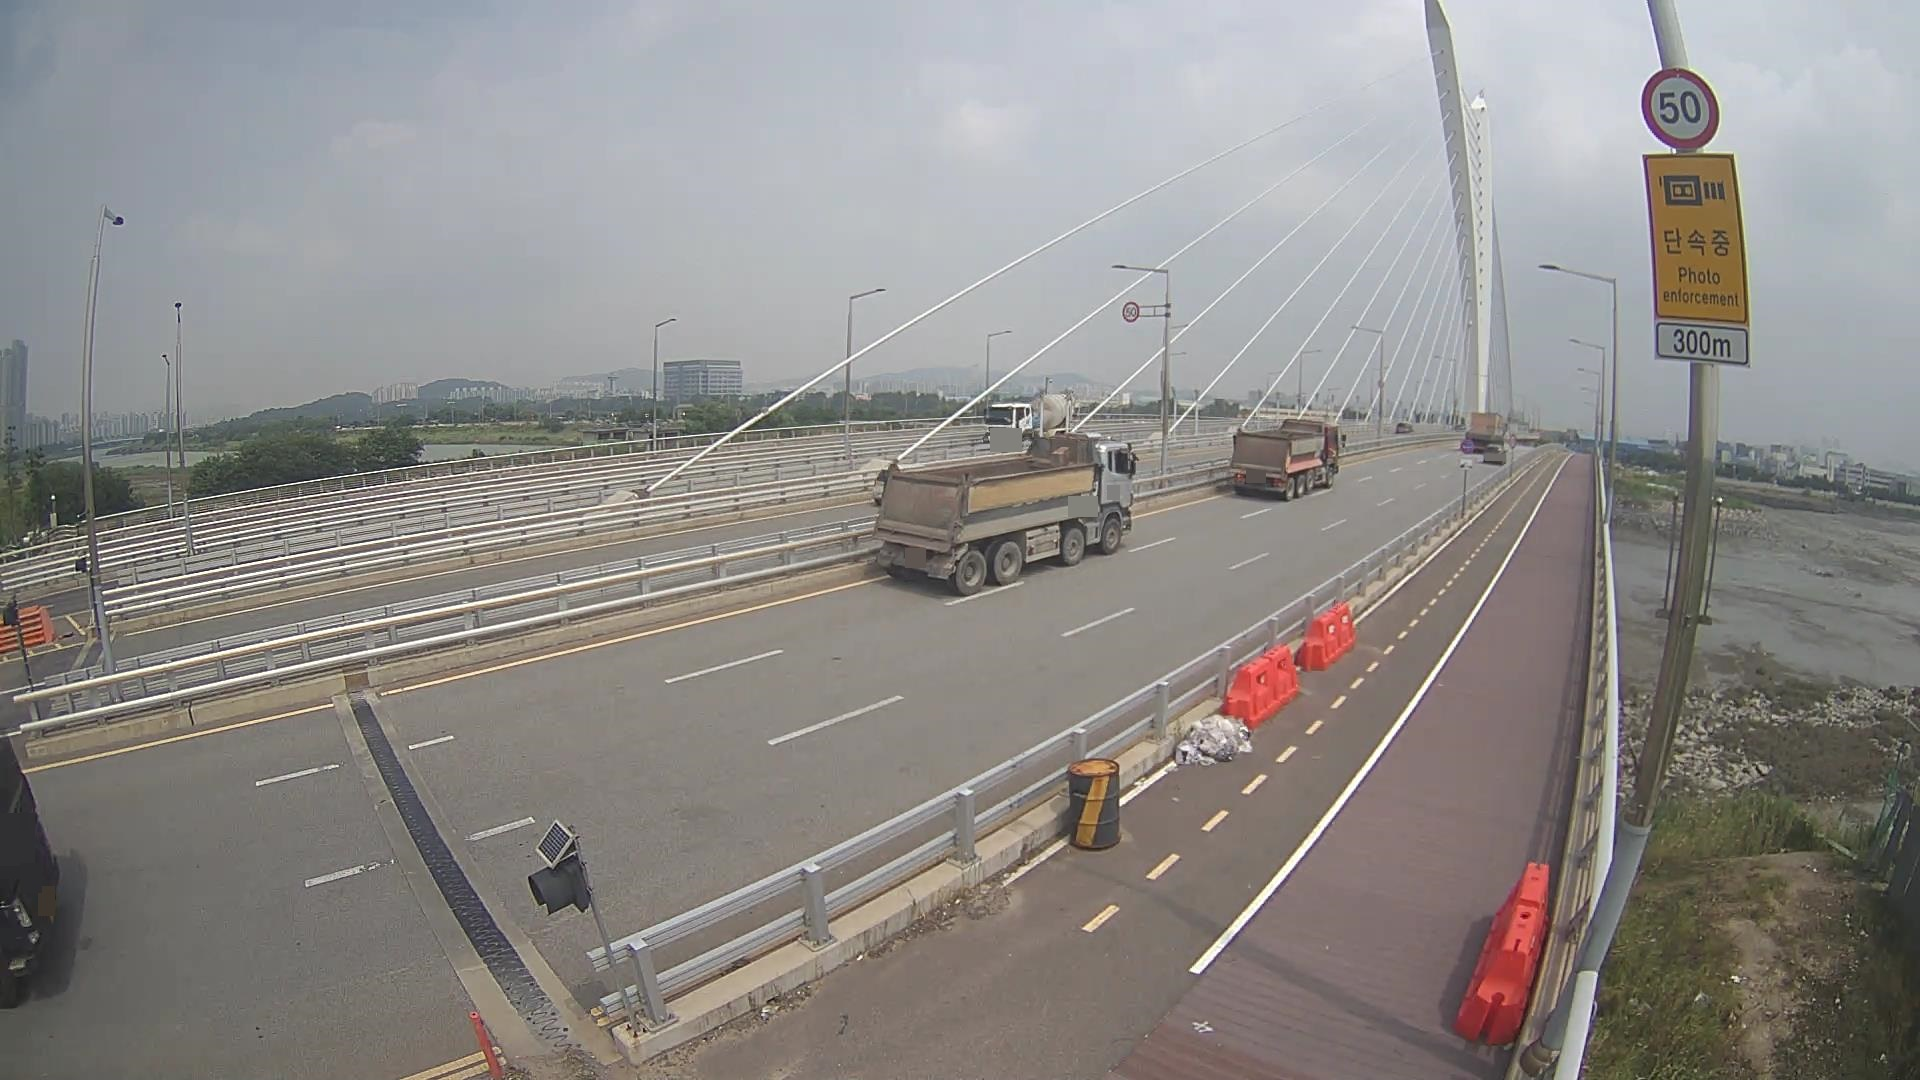정상차량: (873, 431, 1140, 595)
